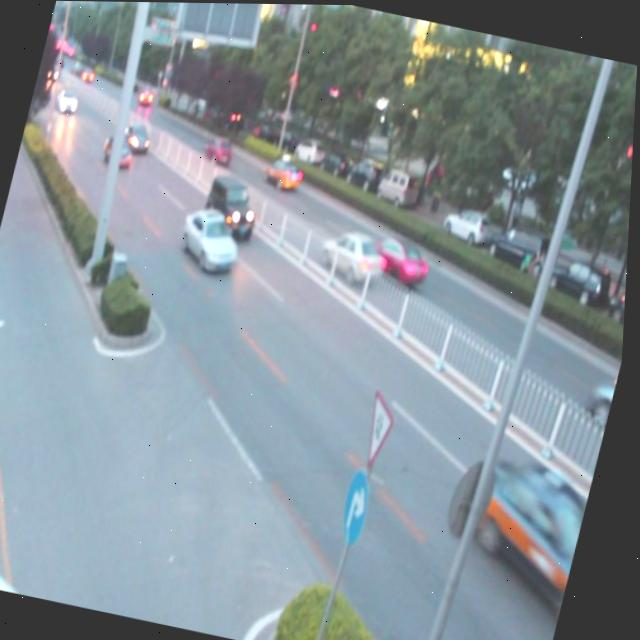car: (461, 452, 588, 594), (178, 206, 248, 271), (321, 226, 390, 283), (204, 175, 263, 238), (373, 232, 435, 285), (101, 132, 138, 170), (265, 155, 305, 190), (0, 545, 29, 593), (123, 120, 153, 153), (204, 134, 234, 166)
